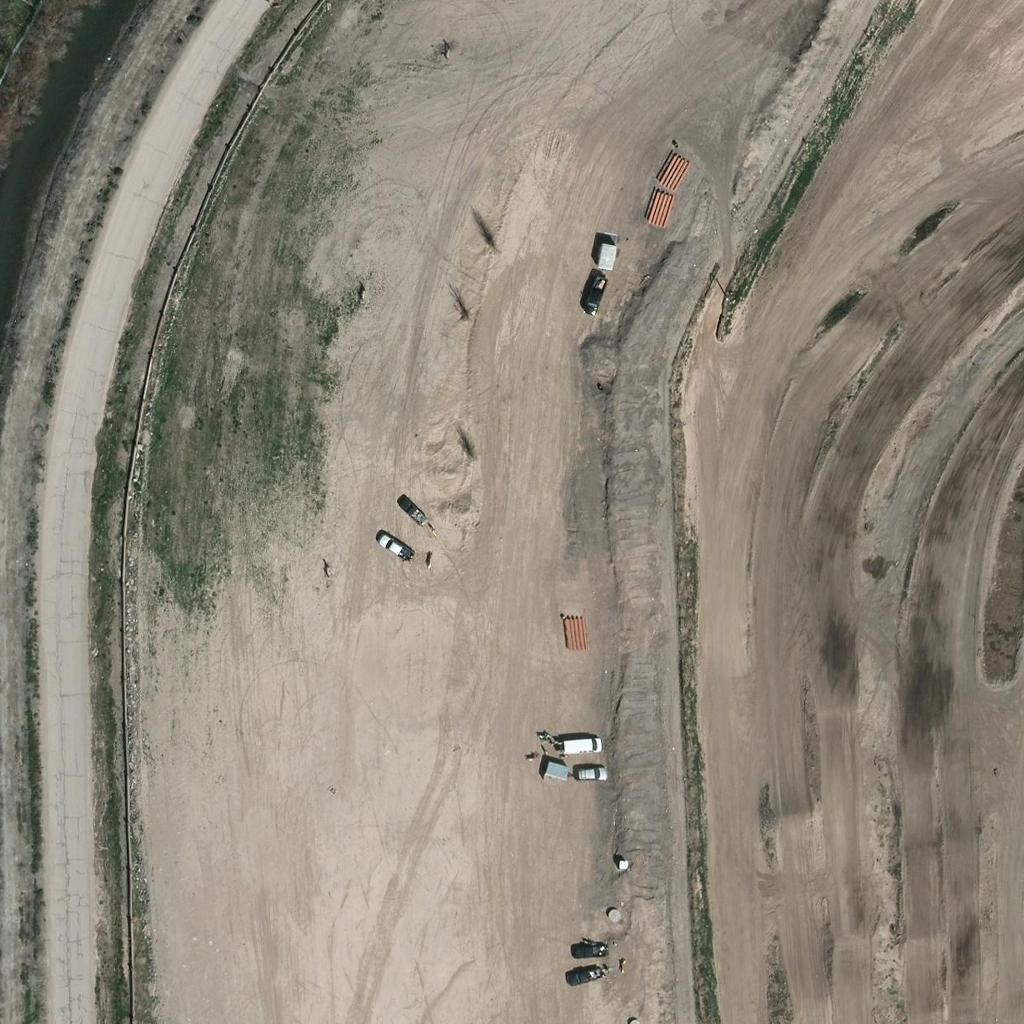car: (578, 280, 612, 314), (394, 493, 428, 527), (376, 530, 410, 564), (568, 728, 602, 762), (572, 756, 606, 790), (568, 932, 602, 966), (565, 957, 599, 991)
